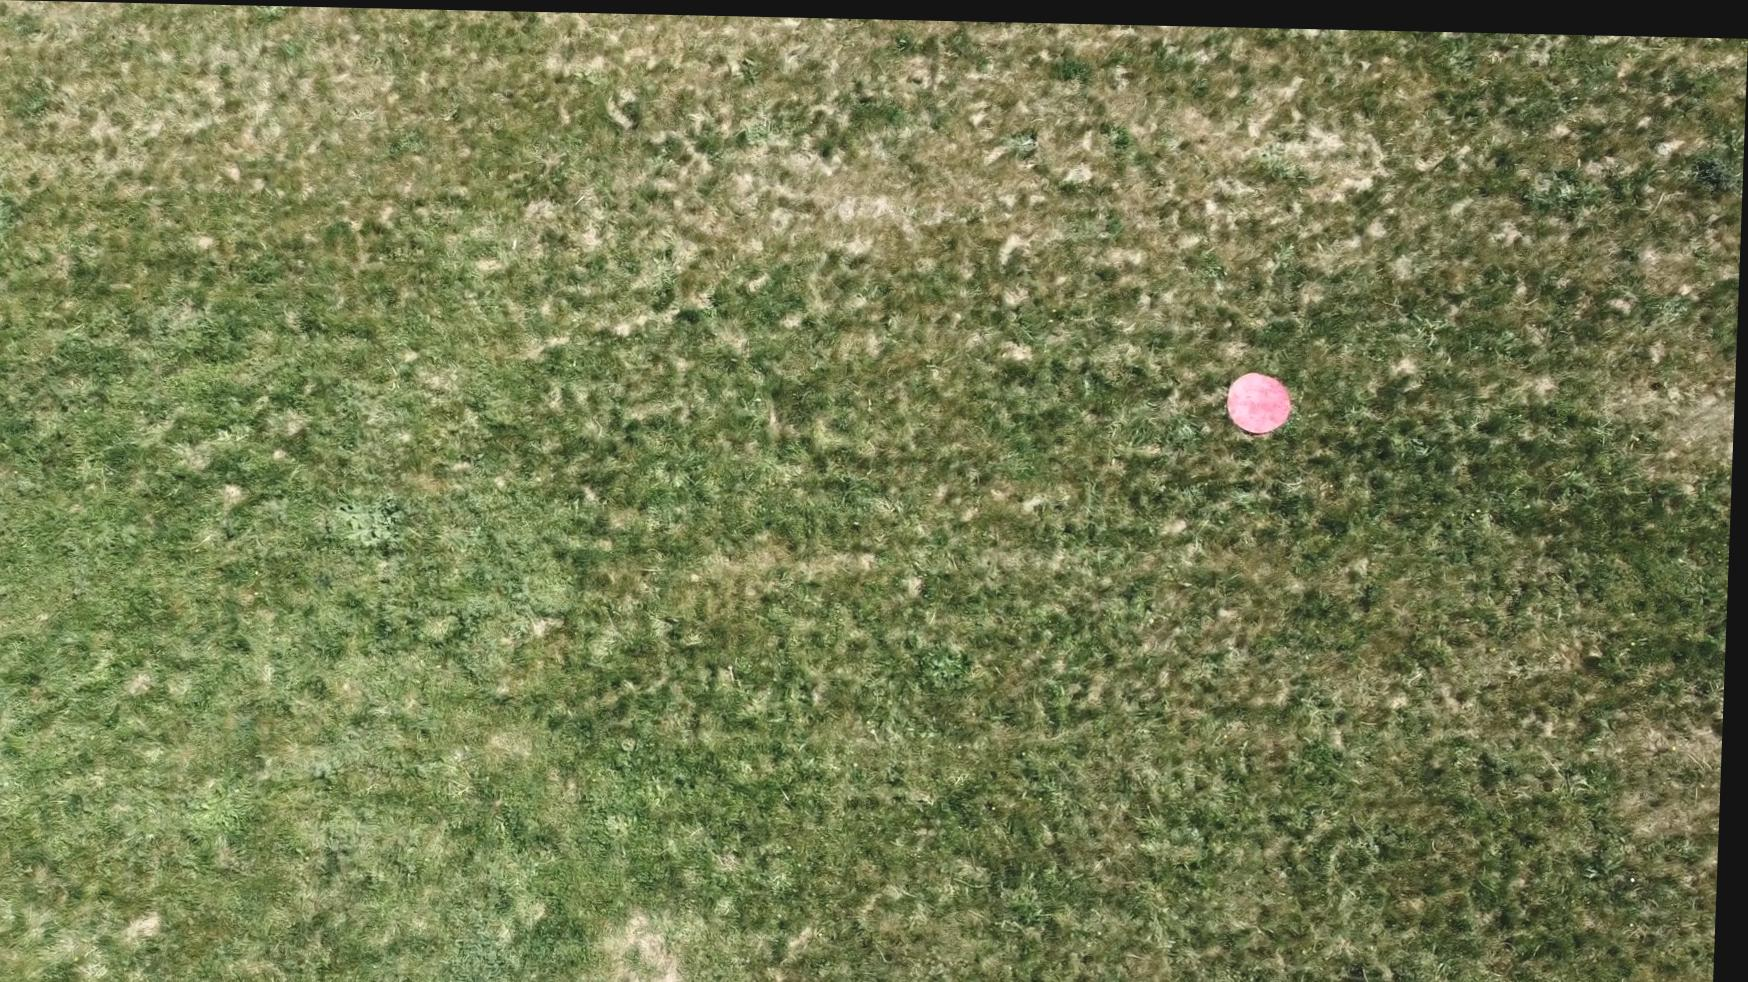Red: (1227, 364, 1298, 430)
